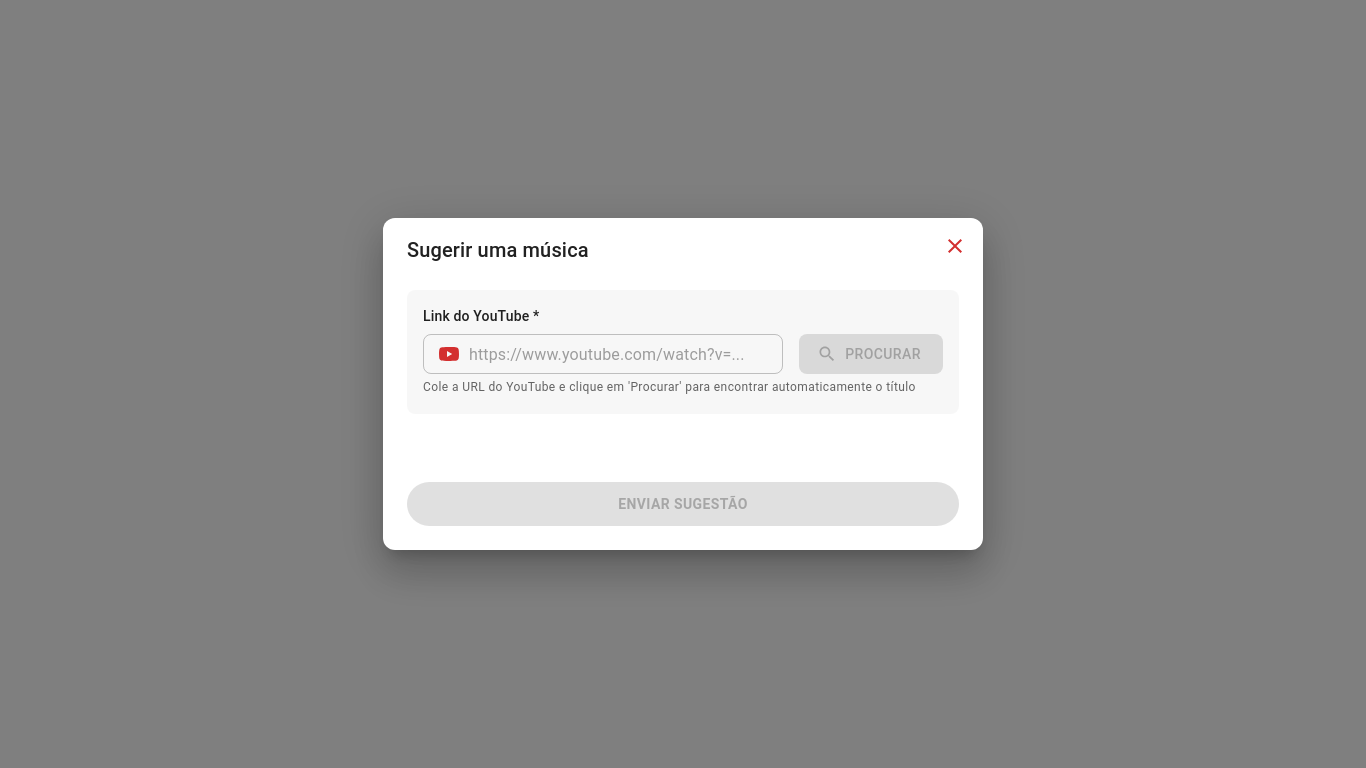
Test: SuggestionForm › valida URL do YouTube
The image size is (1366, 768).
In the field with placeholder "https://www.youtube.com/watch?v=...": (626,354) x1=469 y1=326 x2=783 y2=382, type "invalid-url"
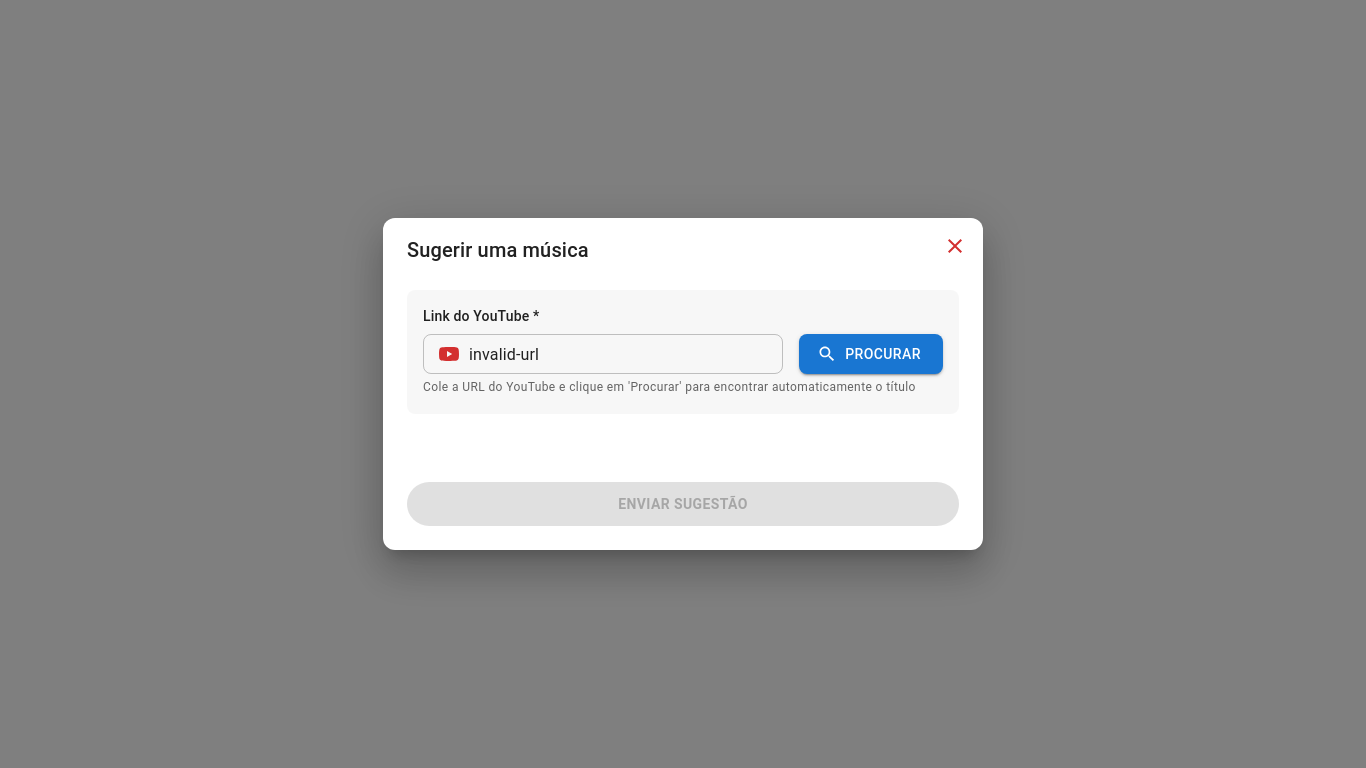
Click the button "Procurar": (871,354) x1=799 y1=334 x2=943 y2=374
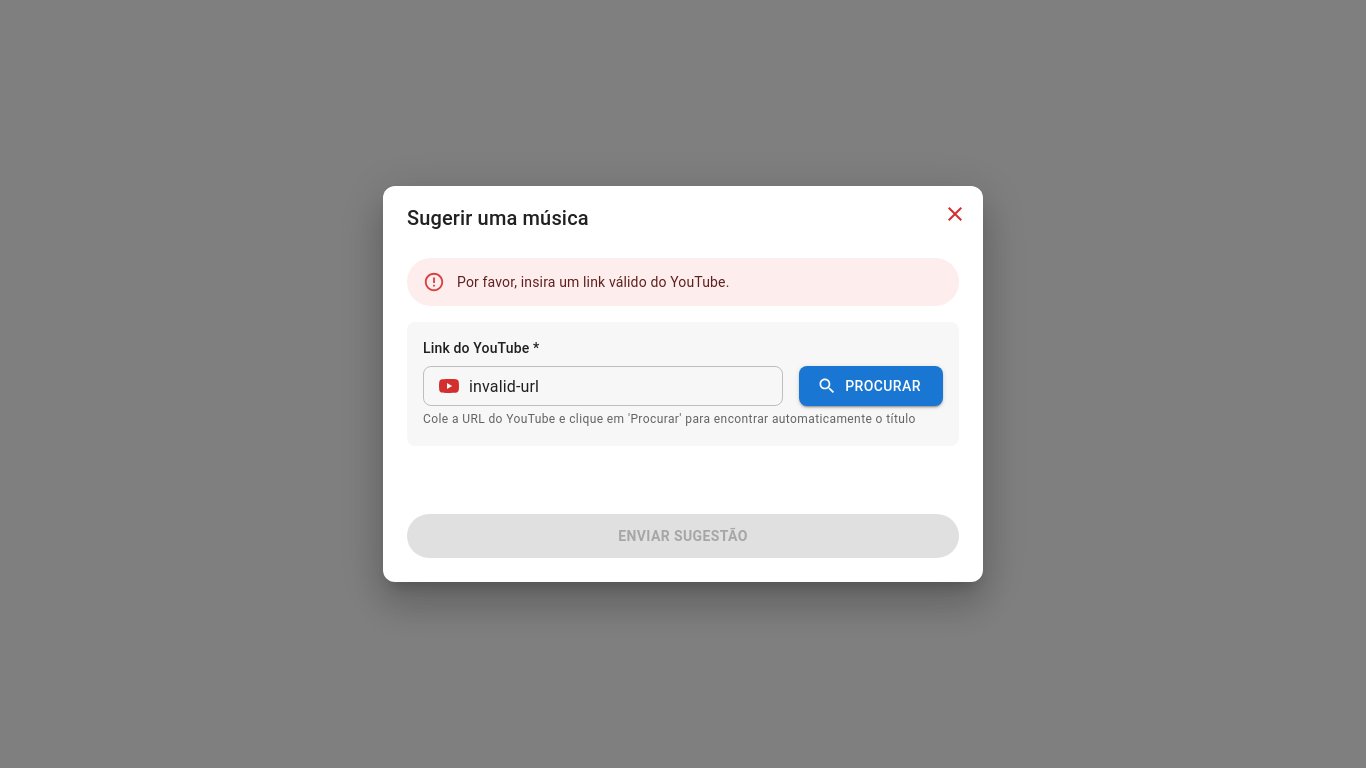
Expected: the text "Por favor, insira um link válido do YouTube." is shown, x1=457 y1=274 x2=730 y2=290
